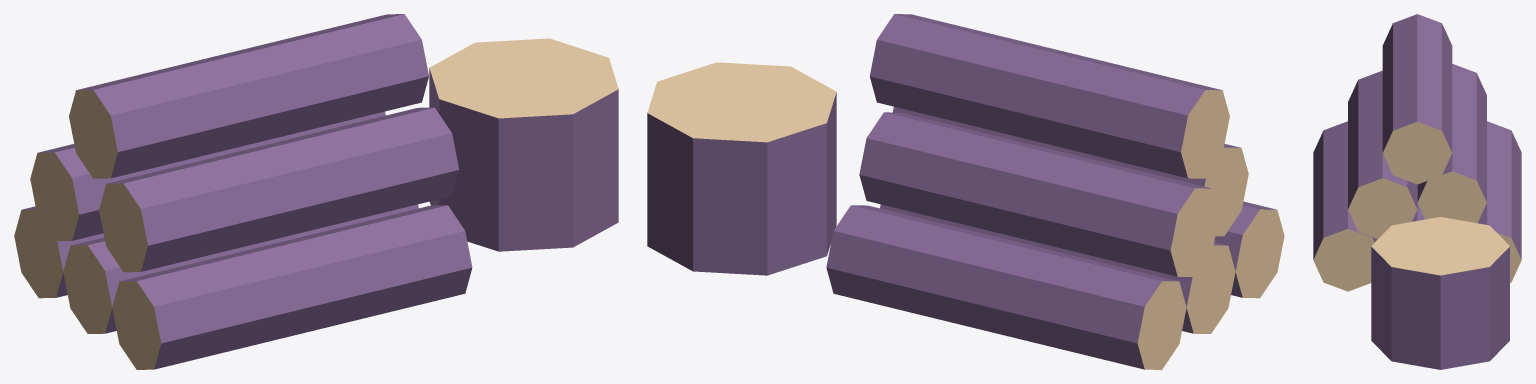
Rendered from woodpile.glb.
The picture shows the model from 3 angles, left to right: view 1: azimuth 30°, elevation 25°; view 2: azimuth 150°, elevation 25°; view 3: azimuth 270°, elevation 25°; orthographic projection. The views are drawn at different scales.
Visible parts, largest first — view 1: Logs, Stump; view 2: Logs, Stump; view 3: Logs, Stump.
Boxes of the visible parts, x1,y1,x2,y2 form: Logs: (14, 14, 472, 369); Stump: (429, 38, 618, 251); Logs: (826, 14, 1284, 369); Stump: (647, 62, 836, 275); Logs: (1313, 14, 1521, 291); Stump: (1371, 217, 1509, 369).
Bounding box in the file's own units: 1.93 × 0.82 × 0.9.
